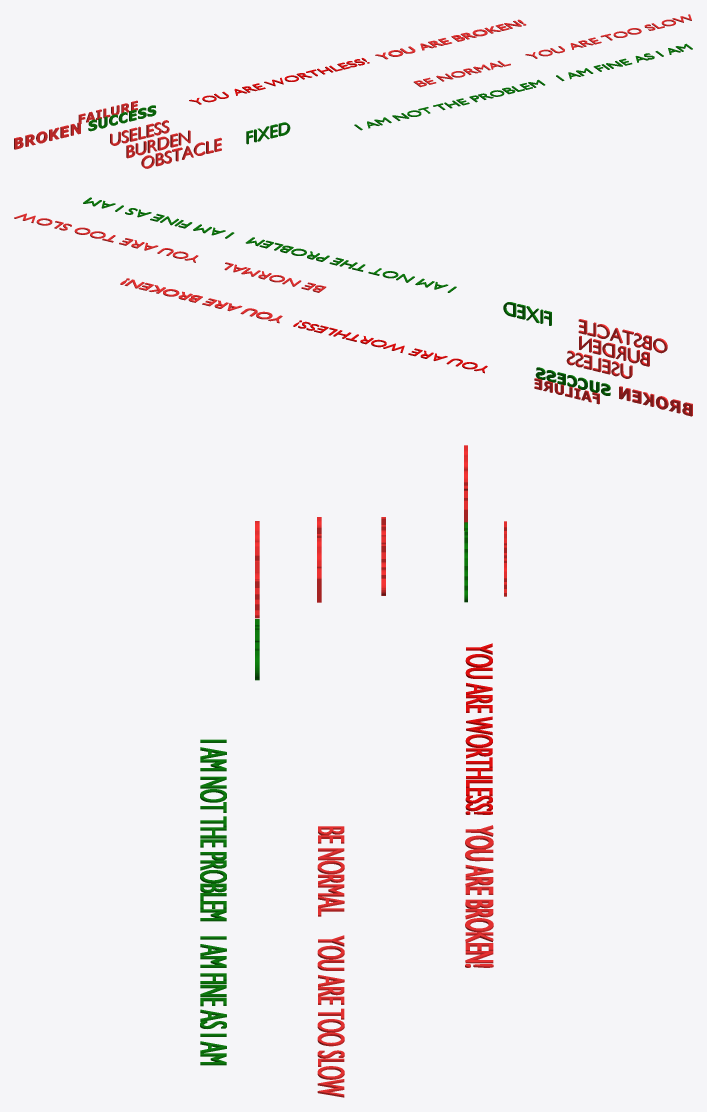
The model's file is ur_broken.fbx.
3 renders of one model, top to bottom at view 1: azimuth 30°, elevation 25°; view 2: azimuth 150°, elevation 25°; view 3: azimuth 270°, elevation 25°, orthographic. The views are drawn at different scales.
Visible parts, largest first — view 1: Text.009, Text.004, Text.005, Text.007, Text.002, Text, text1, text3, Text.008, Text.001, Text.006, text2 (+1 smaller); view 2: Text.009, Text.004, Text.005, Text.007, Text.002, text1, Text, text3, Text.001, Text.008, text2, Text.006 (+1 smaller); view 3: Text.009, Text.004, Text.005, Text.007, Text.008, Text.006.
Boxes of the visible parts, <box> form: Text.009: <box>354,79,545,130</box>; Text.004: <box>189,58,369,104</box>; Text.005: <box>375,19,526,59</box>; Text.007: <box>525,14,691,58</box>; Text.002: <box>141,137,221,168</box>; Text: <box>126,130,190,158</box>; text1: <box>14,122,80,149</box>; text3: <box>88,105,156,131</box>; Text.008: <box>556,43,692,81</box>; Text.001: <box>110,120,169,145</box>; Text.006: <box>413,60,510,87</box>; text2: <box>78,100,137,123</box>; Text.009: <box>245,237,456,292</box>; Text.004: <box>293,320,487,373</box>; Text.005: <box>120,278,282,323</box>; Text.007: <box>14,213,198,262</box>; Text.002: <box>578,319,667,353</box>; text1: <box>619,386,692,416</box>; Text: <box>579,335,649,366</box>; text3: <box>535,367,610,395</box>; Text.001: <box>566,350,632,378</box>; Text.008: <box>83,197,234,238</box>; text2: <box>534,378,599,404</box>; Text.006: <box>224,262,326,292</box>; Text.009: <box>200,739,226,921</box>; Text.004: <box>465,643,492,814</box>; Text.005: <box>465,825,493,967</box>; Text.007: <box>317,935,344,1097</box>; Text.008: <box>200,936,226,1065</box>; Text.006: <box>317,826,344,916</box>.
Bounding box in the file's own units: 3838 × 72.55 × 791.
